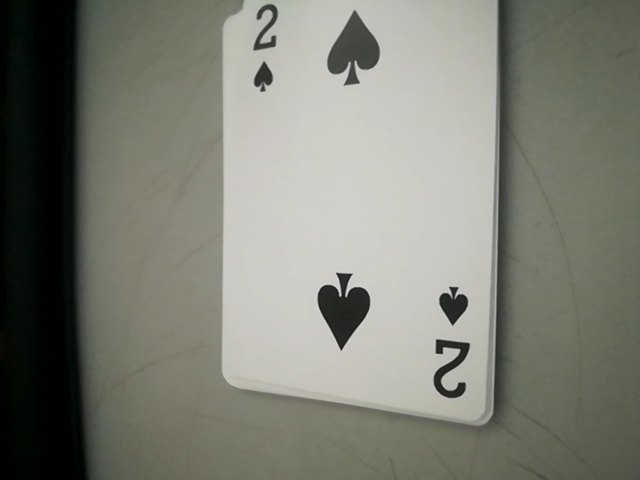ht 2: (422, 275, 478, 403)
